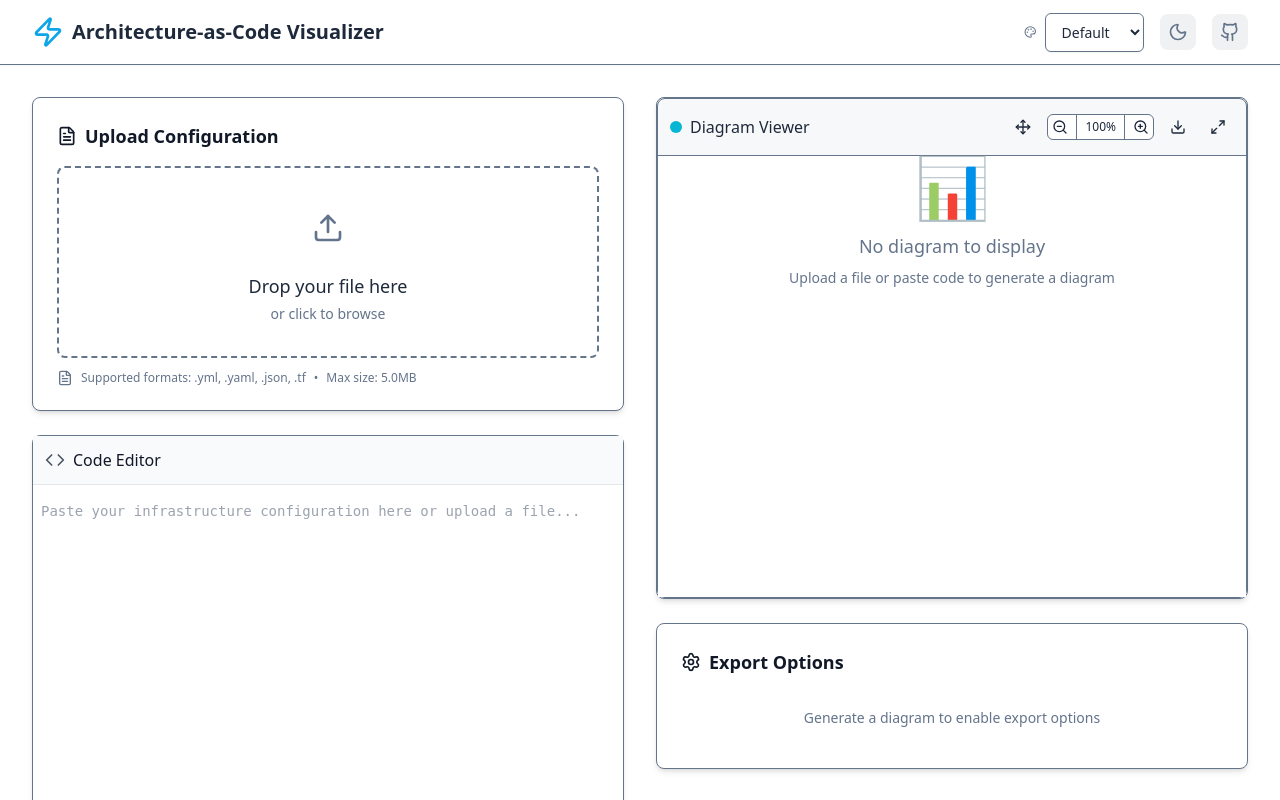
App Integration › should toggle dark mode
The width and height of the screenshot is (1280, 800).
Click the button titled "Switch to dark mode".
click(1178, 32)  # box 1160,14 -> 1196,50
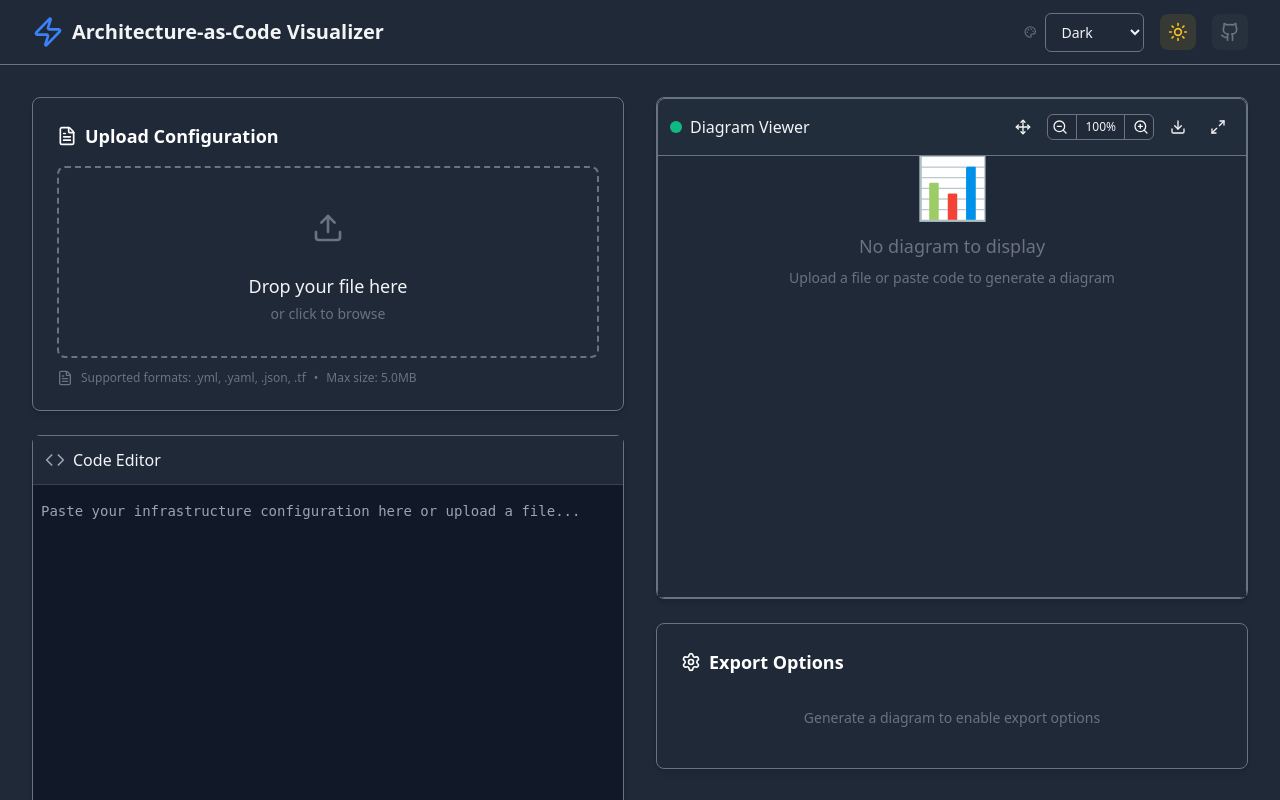
Result: the button titled "Switch to light mode" is shown at 1160,14 -> 1196,50
